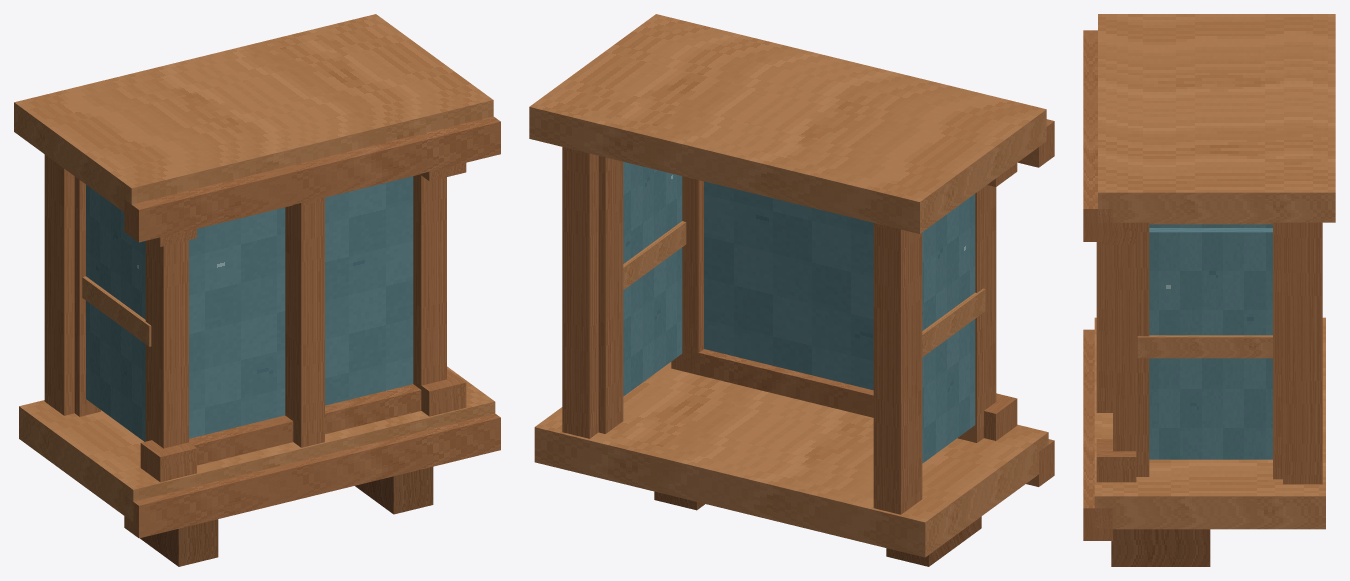
The model's file is Window_06_BayWood.fbx.
3 renders of one model, left to right at view 1: azimuth 30°, elevation 25°; view 2: azimuth 150°, elevation 25°; view 3: azimuth 270°, elevation 25°, orthographic. The views are drawn at different scales.
Visible parts, largest first — view 1: Window_06_BayWood; view 2: Window_06_BayWood; view 3: Window_06_BayWood.
Part boxes in pixels (left/top/right/bottom): Window_06_BayWood: left=14, top=14, right=500, bottom=566; Window_06_BayWood: left=529, top=14, right=1054, bottom=566; Window_06_BayWood: left=1083, top=14, right=1335, bottom=566.
Bounding box in the file's own units: 64 × 67 × 38.25.
4 materials, 4 textured.
